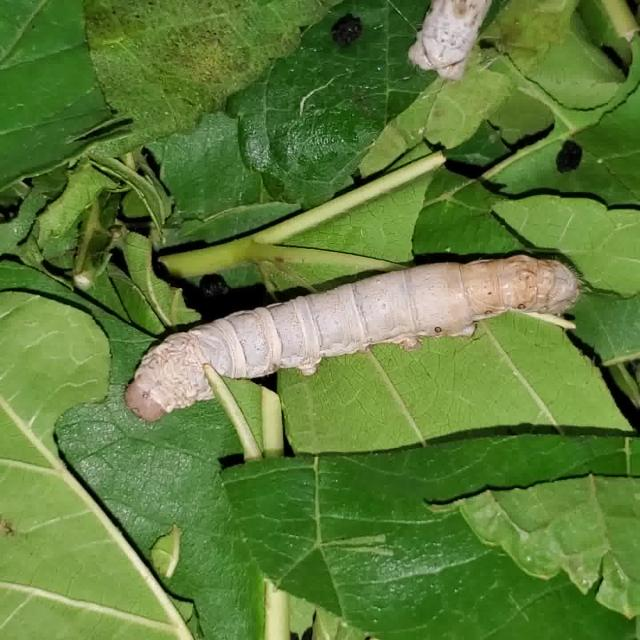Grasserie: (113, 211, 597, 448)
